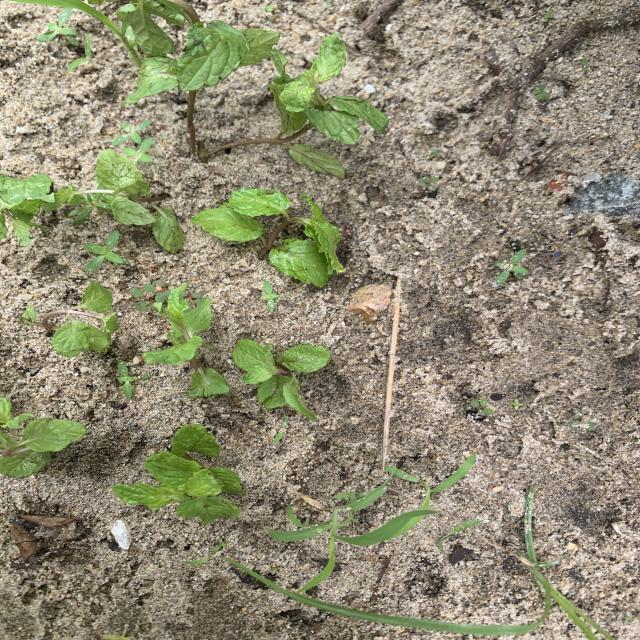crop: (207, 35, 386, 176), (117, 1, 280, 103), (192, 189, 343, 285), (113, 424, 243, 523), (71, 150, 183, 251), (144, 286, 228, 397), (234, 341, 331, 419), (22, 281, 118, 355), (1, 397, 86, 477), (1, 173, 86, 244)
weed: (229, 486, 614, 640), (266, 508, 435, 592), (23, 0, 141, 67), (417, 454, 476, 512), (85, 230, 126, 270), (38, 11, 79, 43), (438, 520, 479, 552), (129, 281, 168, 313), (495, 249, 527, 283), (112, 120, 151, 146), (67, 34, 92, 72), (124, 138, 153, 163), (118, 361, 136, 397), (262, 281, 280, 311), (400, 516, 424, 534), (274, 417, 287, 443), (418, 176, 439, 190), (533, 85, 551, 99), (211, 538, 227, 551), (544, 9, 555, 19), (510, 400, 523, 408)
